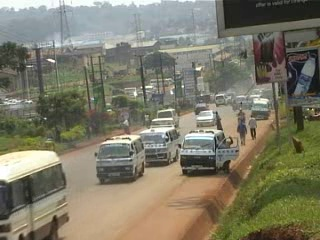Car: (194, 110, 222, 127), (191, 101, 212, 115)
Motorcycle: (236, 114, 245, 124), (231, 103, 238, 112)
